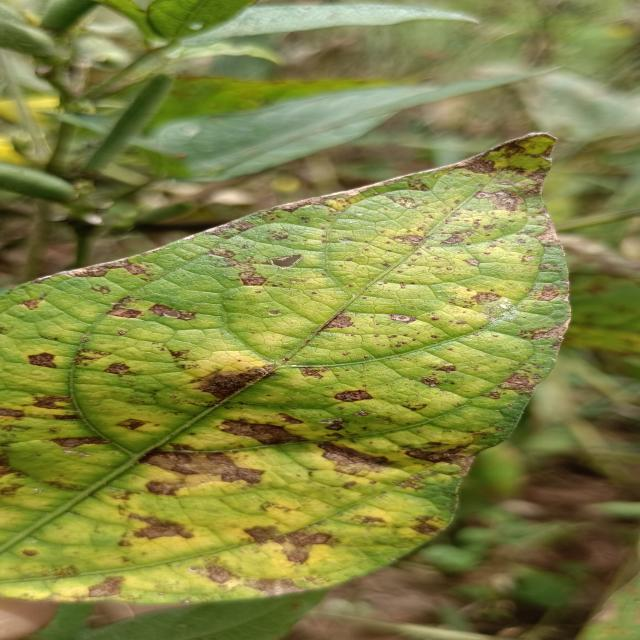Black gram_leaf spot: (0, 129, 579, 611)
